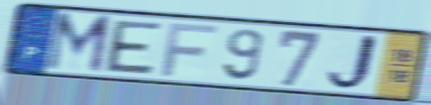7: (276, 27, 325, 89)
9: (221, 28, 265, 82)
E: (105, 19, 166, 76)
F: (159, 21, 220, 79)
J: (323, 31, 382, 94)
M: (42, 11, 115, 77)
